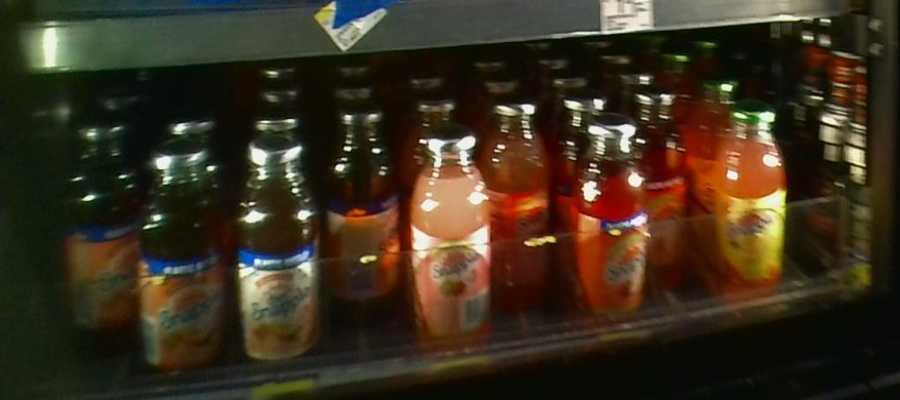bottle: (135, 136, 229, 379), (229, 131, 319, 373), (412, 132, 491, 354), (322, 106, 402, 311), (63, 112, 134, 339), (574, 115, 649, 328), (492, 91, 560, 313), (716, 106, 790, 299), (649, 84, 694, 276)
